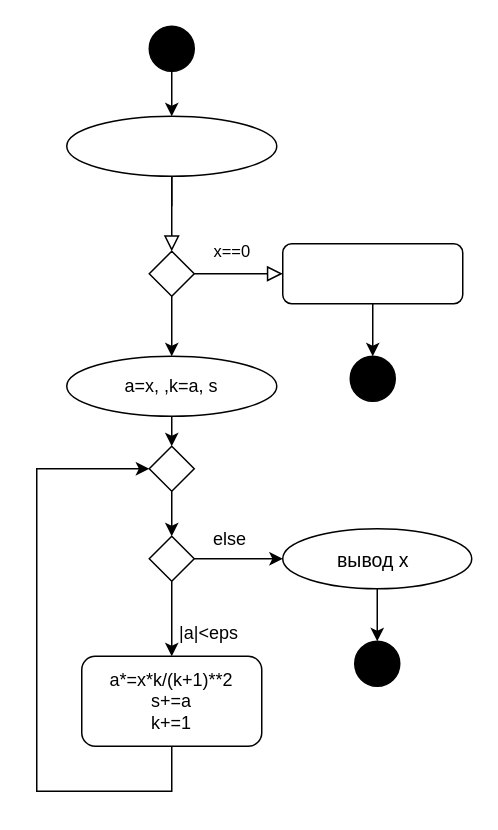
Some shapes in this 498 by 830 pixel diagram are drawn without their labels. Here are the shapes that lost their labels. From the top down, the centre of each, then its label:
the point at 171,145: ввод x
the point at 372,273: Illegal value of x exit (1)
